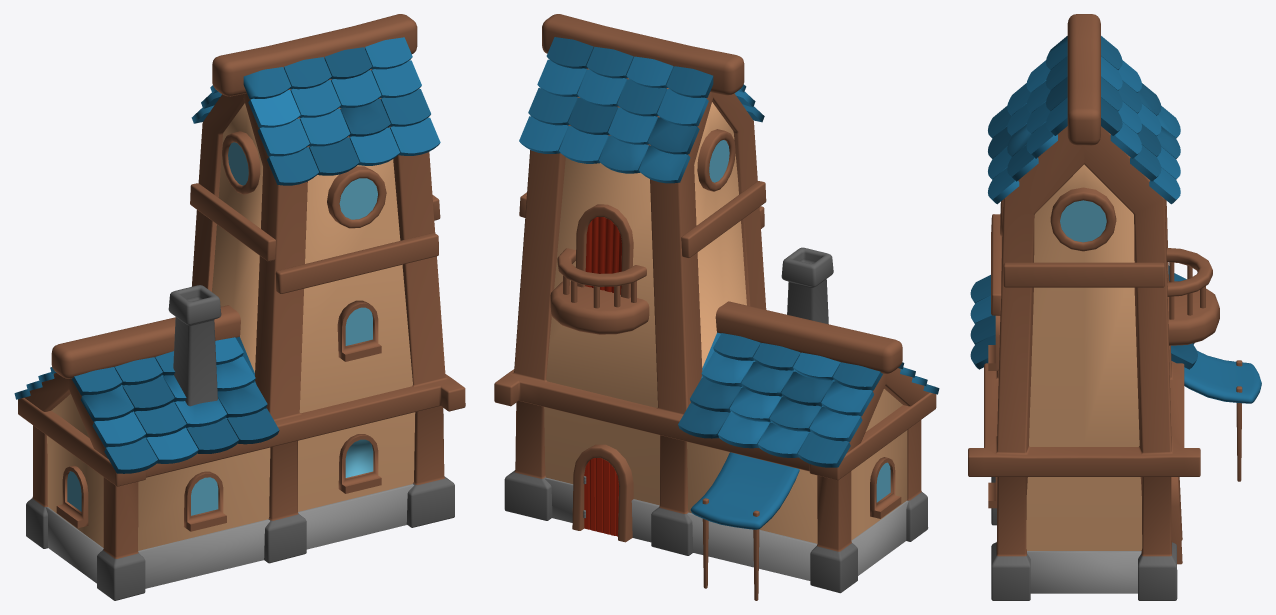
The model's file is Building4.fbx.
3 renders of one model, left to right at view 1: azimuth 30°, elevation 25°; view 2: azimuth 150°, elevation 25°; view 3: azimuth 270°, elevation 25°, orthographic. The views are drawn at different scales.
Visible parts, largest first — view 1: Cube.025; view 2: Cube.025; view 3: Cube.025.
Part boxes in pixels (bbox=[...]): Cube.025: bbox=[14, 14, 465, 600]; Cube.025: bbox=[494, 14, 939, 600]; Cube.025: bbox=[968, 14, 1261, 600].
Bounding box in the file's own units: 14.17 × 9.73 × 17.98.
